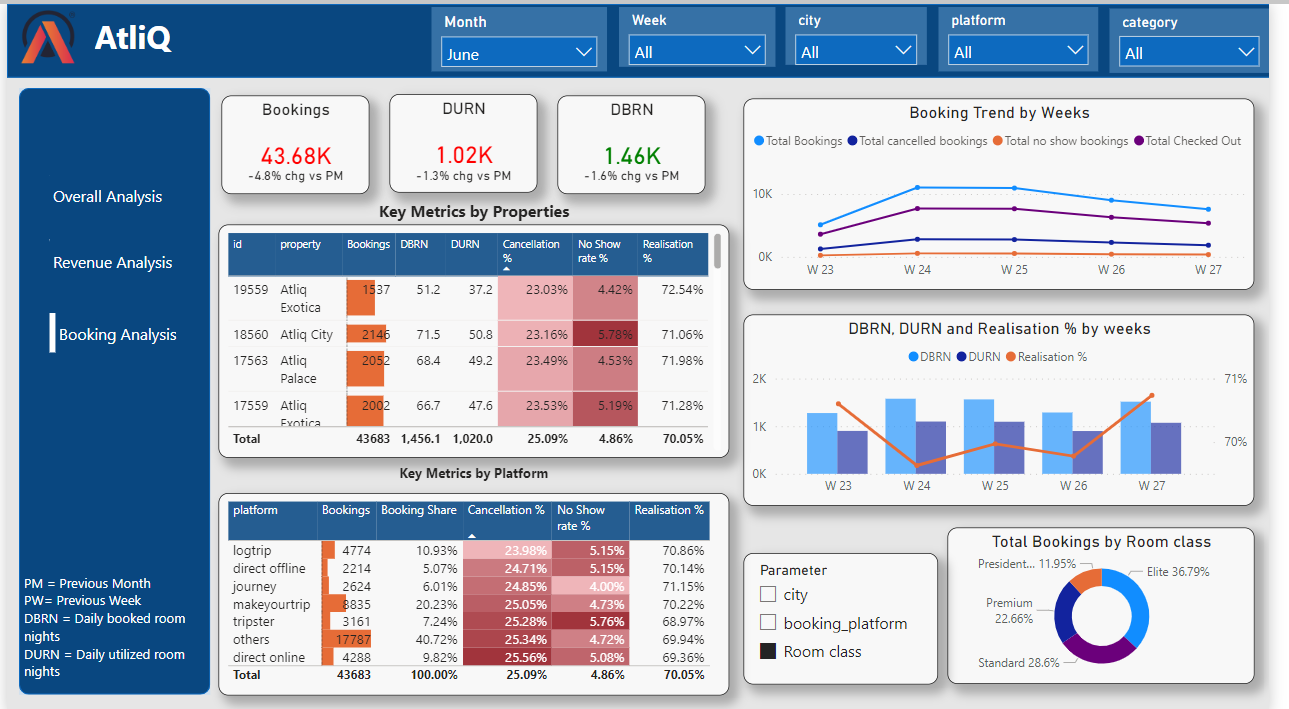

Layout of this report page (visuals, bound fields, positions):
{"tool":"powerbi","page":{"name":"Booking","canvas":[1280,720],"ordinal":2},"visuals":[{"type":"shape","box":[0,0,1282.6,74.7],"z":0},{"type":"image","box":[0,0,84.7,65.5],"z":1000},{"type":"textbox","box":[84.1,6.5,123,58.2],"z":2000},{"type":"shape","box":[12.7,85.8,193.9,615.1],"z":3000},{"type":"shape","box":[7.7,174,77,40],"z":4000},{"type":"actionButton","box":[42.4,163.7,146.4,59.7],"z":5000},{"type":"shape","box":[8,239,77,40],"z":6000},{"type":"actionButton","box":[42.4,231.1,146.4,59.7],"z":7000},{"type":"shape","box":[7,314,77,40],"z":8000},{"type":"actionButton","box":[42.1,304,146.4,59.7],"z":9000},{"type":"tableEx","fields":{"Values":["dim_hotels.property_id","dim_hotels.property_name","Key measures.Total Bookings","Key measures.DBRN","Key measures.DURN","Key measures.Cancellation %","Key measures.No Show rate %","Key measures.Realisation %"]},"box":[214.6,224.1,518.1,236.8],"z":10000},{"type":"slicer","fields":{"Values":["dim_date.mmm-yy"]},"box":[430.7,3.7,178,65.2],"z":11000},{"type":"slicer","fields":{"Values":["dim_date.week no"]},"box":[619.9,3.7,158.9,60.4],"z":12000},{"type":"slicer","fields":{"Values":["dim_hotels.city"]},"box":[789.9,3.7,143,58.8],"z":13000},{"type":"slicer","fields":{"Values":["fact_bookings.booking_platform"]},"box":[944.1,3.7,162.1,65.2],"z":14000},{"type":"slicer","fields":{"Values":["dim_hotels.category"]},"box":[1117.4,4.8,162.1,65.2],"z":15000},{"type":"textbox","box":[214.6,193.9,518.1,65.2],"z":16000},{"type":"card","title":"Bookings","fields":{"Values":["Key measures.Total Bookings"]},"box":[218.2,92.3,150,100],"z":17000},{"type":"card","fields":{"Values":["Key measures.booking label"]},"box":[218.2,158.9,149.4,33.4],"z":18000},{"type":"card","title":"DURN","fields":{"Values":["Key measures.DURN"]},"box":[387.2,91.7,150,100],"z":19000},{"type":"card","fields":{"Values":["Key measures.DURN label"]},"box":[387.2,158.3,149.4,33.4],"z":20000},{"type":"card","title":"DBRN","fields":{"Values":["Key measures.DBRN"]},"box":[558.2,92.1,150,100],"z":21000},{"type":"card","fields":{"Values":["Key measures.DBRN label"]},"box":[558.2,158.7,149.4,33.4],"z":22000},{"type":"lineChart","title":"Booking Trend by Weeks","fields":{"Category":["dim_date.week no"],"Y":["Key measures.Total Bookings","Key measures.Total cancelled bookings","Key measures.Total no show bookings","Key measures.Total Checked Out"]},"box":[747,95.4,518.1,193.9],"z":23000},{"type":"lineClusteredColumnComboChart","title":"DBRN, DURN and Realisation % by weeks","fields":{"Category":["dim_date.week no"],"Y":["Key measures.DBRN","Key measures.DURN"],"Y2":["Key measures.Realisation %"]},"box":[747,314.7,518.1,193.9],"z":24000},{"type":"donutChart","fields":{"Category":["dim_rooms.room_class"],"Y":["Key measures.Total Bookings"]},"box":[953.6,530.9,311.5,158.9],"z":25000},{"type":"slicer","fields":{"Values":["Parameter.Parameter"]},"box":[747,556.3,197.1,133.5],"z":26000},{"type":"tableEx","fields":{"Values":["fact_bookings.booking_platform","Key measures.Total Bookings","Key measures.Booking % by Platform","Key measures.Cancellation %","Key measures.No Show rate %","Key measures.Realisation %"]},"box":[214.6,495.9,518.1,205],"z":27000},{"type":"textbox","box":[214.6,460.9,518.1,69.9],"z":28000},{"type":"textbox","box":[12.7,572.2,193.9,147.8],"z":29000}]}

Visuals, with their boxes in screenshot pixels (x1, y1, x2, y2), scaled from the page's 1280x720 canvas onto the 1289x709 screenshot:
shape: 0:0:1288:74
image: 0:0:85:64
textbox: 85:6:209:64
shape: 13:84:208:690
shape: 8:171:85:211
actionButton: 43:161:190:220
shape: 8:235:86:275
actionButton: 43:228:190:286
shape: 7:309:85:349
actionButton: 42:299:190:358
tableEx - dim_hotels.property_id x dim_hotels.property_name: 216:221:738:454
slicer - dim_date.mmm-yy: 434:4:613:68
slicer - dim_date.week no: 624:4:784:63
slicer - dim_hotels.city: 795:4:939:62
slicer - fact_bookings.booking_platform: 951:4:1114:68
slicer - dim_hotels.category: 1125:5:1288:69
textbox: 216:191:738:255
"Bookings" card: 220:91:371:189
card - Key measures.booking label: 220:156:370:189
"DURN" card: 390:90:541:189
card - Key measures.DURN label: 390:156:540:189
"DBRN" card: 562:91:713:189
card - Key measures.DBRN label: 562:156:713:189
"Booking Trend by Weeks" lineChart: 752:94:1274:285
"DBRN, DURN and Realisation % by weeks" lineClusteredColumnComboChart: 752:310:1274:501
donutChart - dim_rooms.room_class x Key measures.Total Bookings: 960:523:1274:679
slicer - Parameter.Parameter: 752:548:951:679
tableEx - fact_bookings.booking_platform x Key measures.Total Bookings: 216:488:738:690
textbox: 216:454:738:523
textbox: 13:563:208:708
